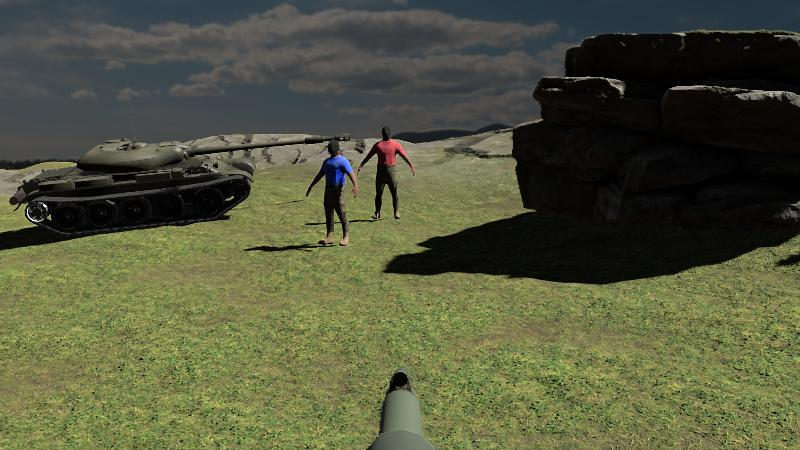Human: (306, 140, 357, 247), (357, 126, 414, 220)
Tank: (8, 135, 351, 236)
